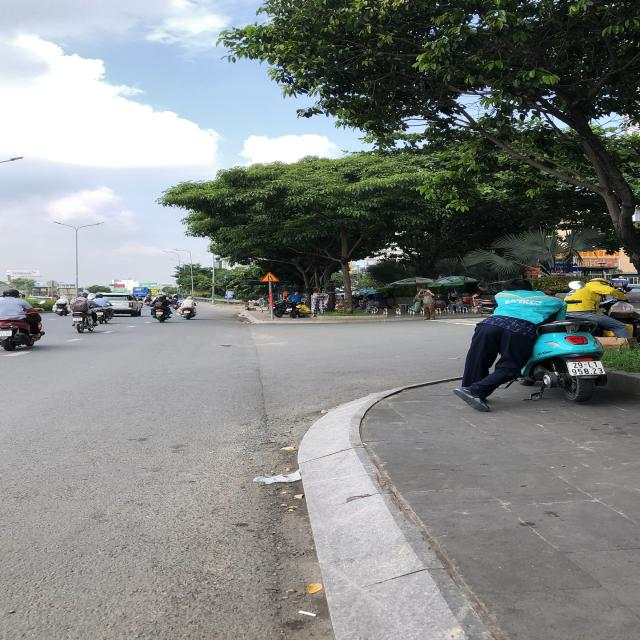Bien bao duong bi thu hep: (259, 271, 281, 283)
